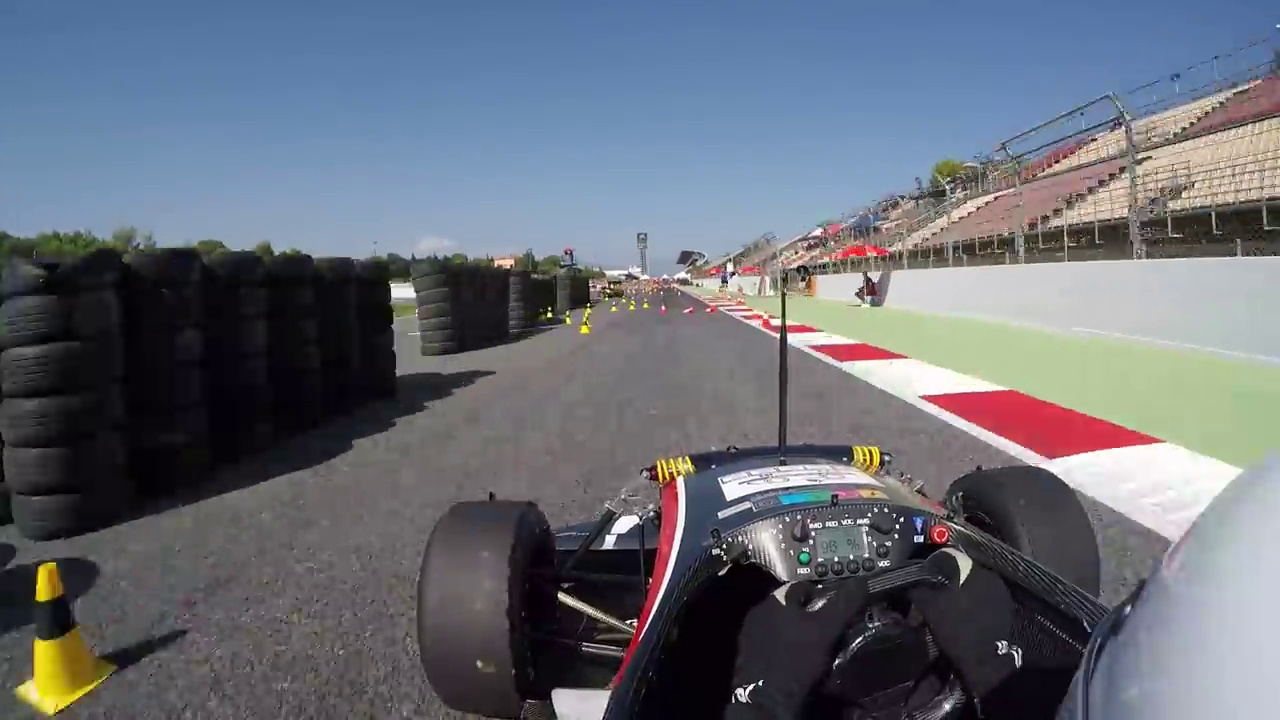Cone: (18, 562, 112, 707)
